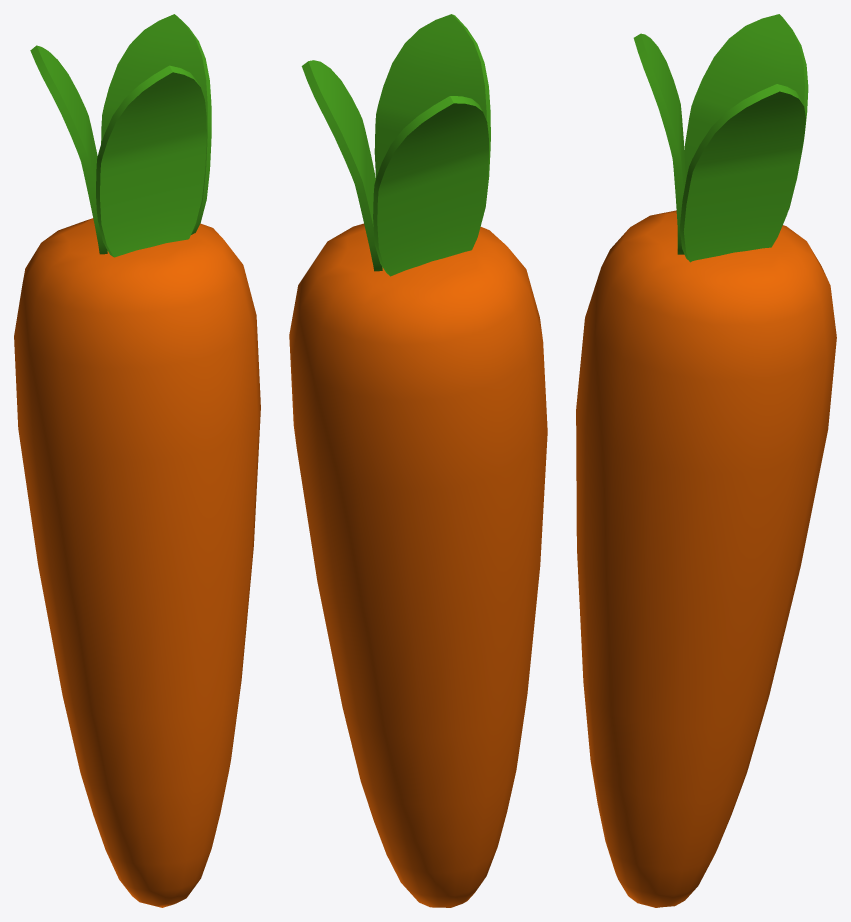
The model's file is Carrot.fbx.
3 views of the same model, side by side, from view 1: azimuth 30°, elevation 25°; view 2: azimuth 150°, elevation 25°; view 3: azimuth 270°, elevation 25° (orthographic). The views are drawn at different scales.
Visible parts, largest first — view 1: Carrot; view 2: Carrot; view 3: Carrot.
Boxes of the visible parts, x1,y1,x2,y2 form: Carrot: [14, 14, 260, 907]; Carrot: [289, 14, 547, 907]; Carrot: [576, 14, 836, 907].
Bounding box in the file's own units: 24.69 × 94.14 × 25.45.
